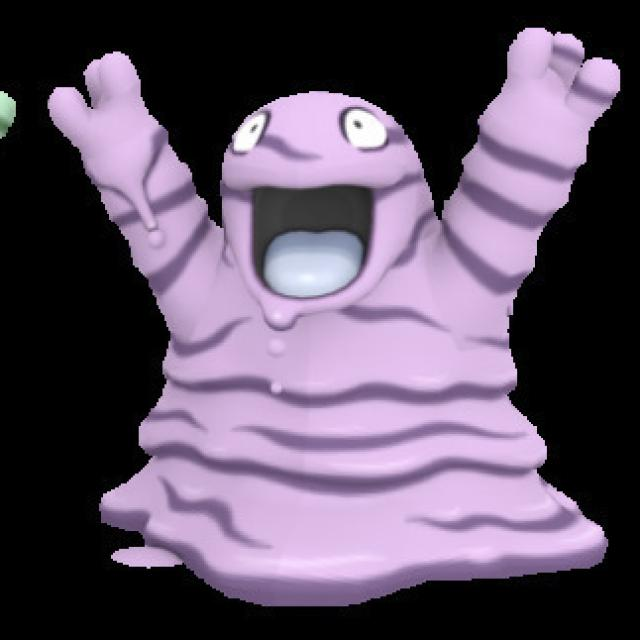Grimer: (124, 86, 513, 565)
